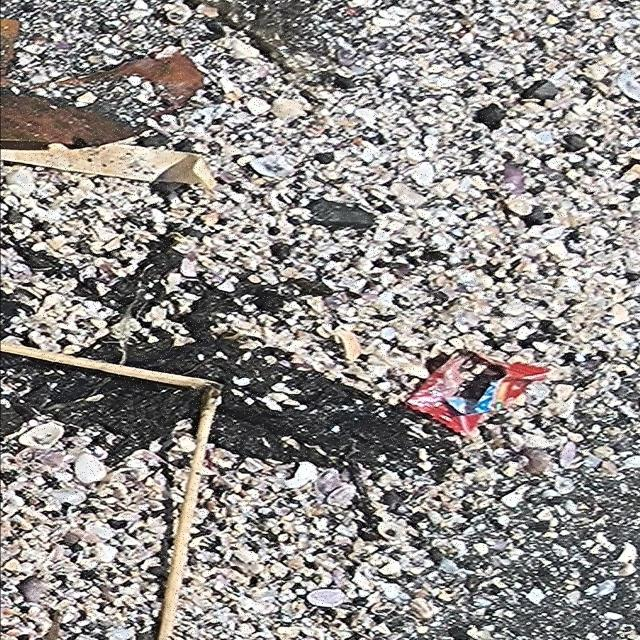plastic_waste: (404, 349, 553, 438)
